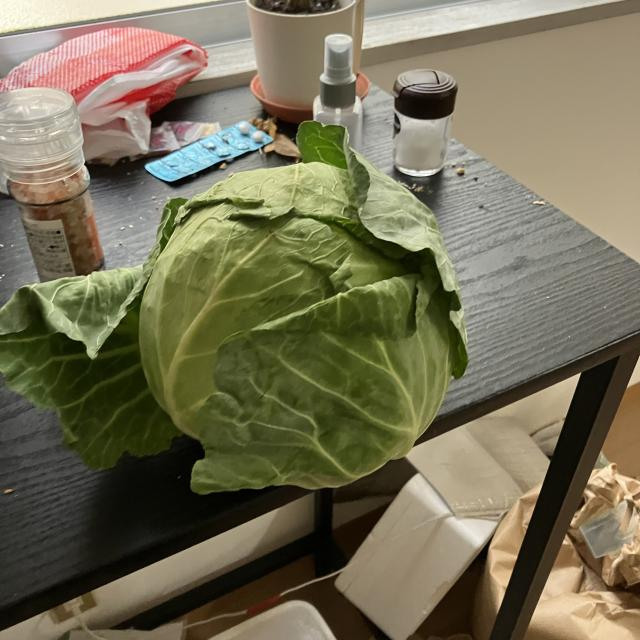cabbage: (0, 116, 472, 497)
